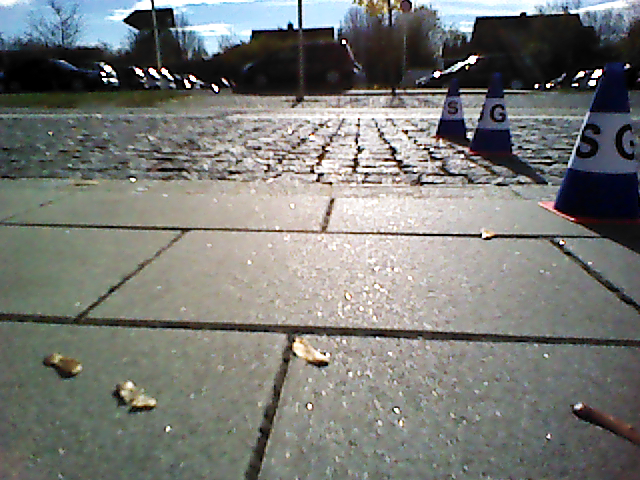bluecone: (556, 62, 640, 217), (471, 75, 512, 153), (436, 80, 467, 139)
